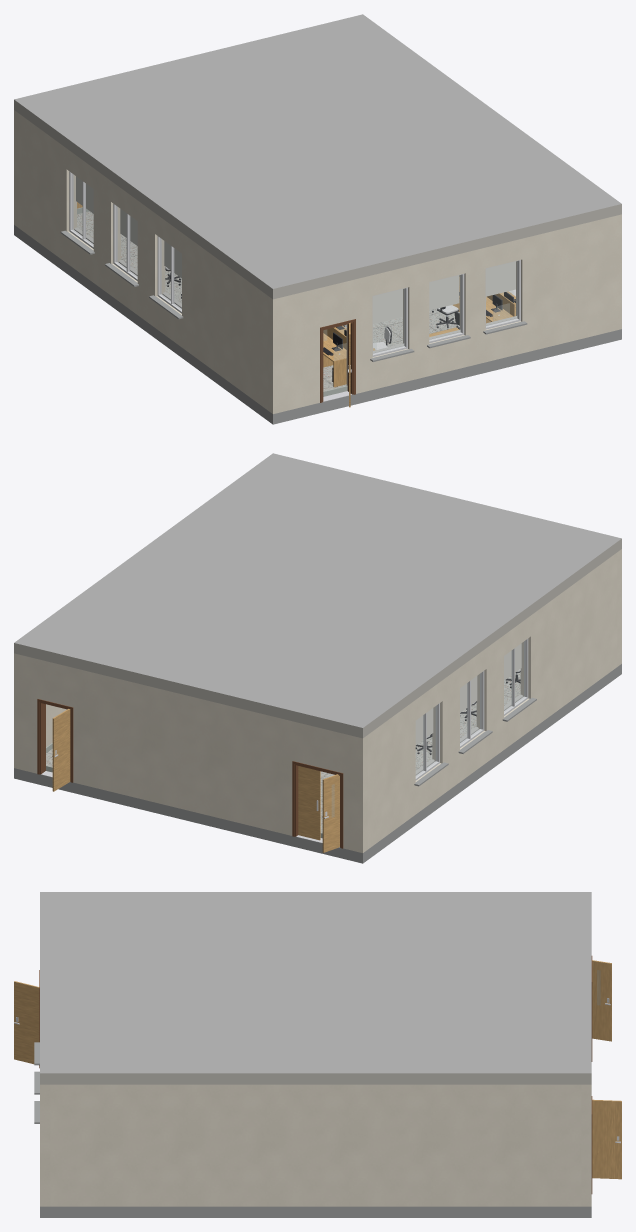
Rendered from GA_Lab.glb.
3 views of the same model, one above another, from view 1: azimuth 30°, elevation 25°; view 2: azimuth 150°, elevation 25°; view 3: azimuth 270°, elevation 25° (orthographic). The views are drawn at different scales.
Visible parts, largest first — view 1: GAL_Room_Shell, GAL_Doors_Windows, GAL_Student_Desks, GAL_Chairs; view 2: GAL_Room_Shell, GAL_Doors_Windows; view 3: GAL_Room_Shell, GAL_Doors_Windows.
Boxes of the visible parts, x1=… form: GAL_Room_Shell: x1=14, y1=14, x2=621, y2=424; GAL_Doors_Windows: x1=60, y1=171, x2=527, y2=407; GAL_Student_Desks: x1=323, y1=275, x2=515, y2=387; GAL_Chairs: x1=165, y1=266, x2=515, y2=349; GAL_Room_Shell: x1=14, y1=453, x2=621, y2=863; GAL_Doors_Windows: x1=37, y1=638, x2=536, y2=852; GAL_Room_Shell: x1=40, y1=892, x2=591, y2=1217; GAL_Doors_Windows: x1=14, y1=956, x2=621, y2=1193.
Size of the model in its own units: 21.28 by 7.8 by 29.76.
54 materials, 23 textured.
